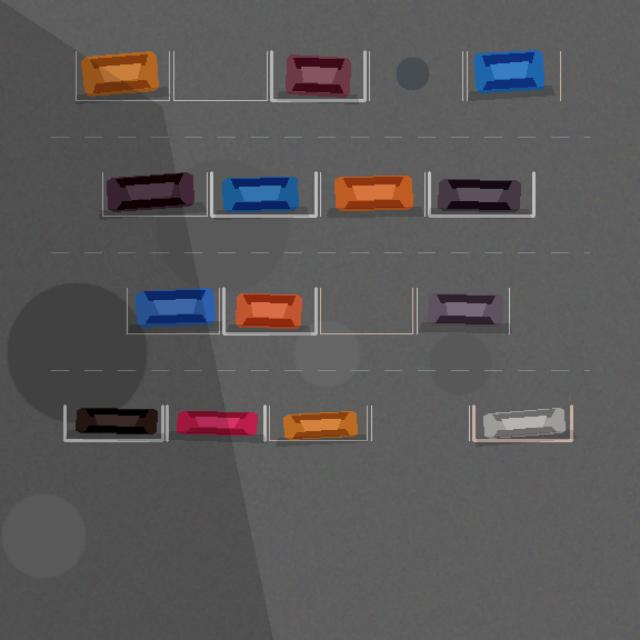space-empty: (173, 51, 267, 100), (369, 51, 462, 100), (320, 288, 412, 333), (371, 406, 469, 440)
space-occupied: (102, 172, 207, 216), (211, 172, 316, 216), (320, 172, 424, 216), (429, 172, 533, 216), (76, 51, 169, 100), (271, 51, 364, 100), (467, 51, 560, 100), (223, 288, 316, 333), (127, 288, 219, 333), (417, 288, 509, 333), (64, 406, 162, 440), (269, 406, 367, 440), (473, 406, 571, 440), (167, 406, 264, 440)
